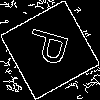P: (25, 25, 78, 70)
